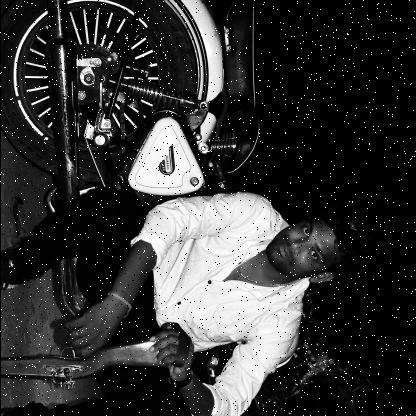rifle: (1, 321, 178, 393)
